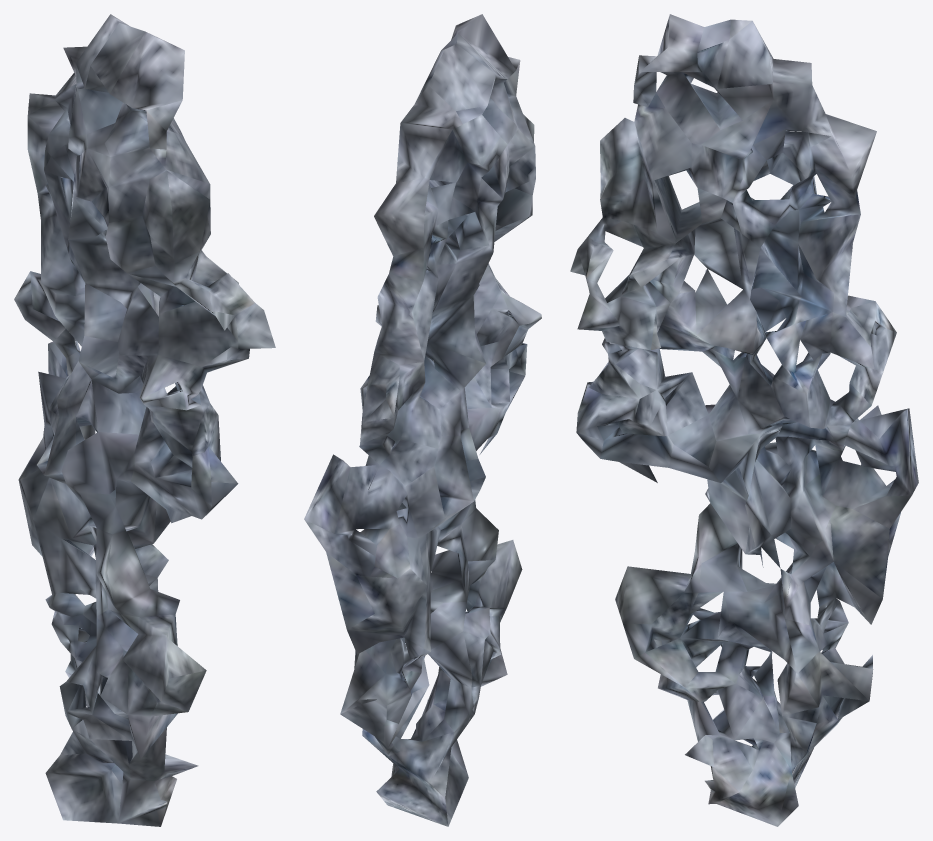
The model's file is rock_scholar.lod1.glb.
The picture shows the model from 3 angles, left to right: view 1: azimuth 30°, elevation 25°; view 2: azimuth 150°, elevation 25°; view 3: azimuth 270°, elevation 25°; orthographic projection. The views are drawn at different scales.
Parts seen in each view (by area): view 1: tripo_node_63439e56-1ea3-47c4-8e4d-1a85cea68036; view 2: tripo_node_63439e56-1ea3-47c4-8e4d-1a85cea68036; view 3: tripo_node_63439e56-1ea3-47c4-8e4d-1a85cea68036.
Boxes of the visible parts, x1,y1,x2,y2 form: tripo_node_63439e56-1ea3-47c4-8e4d-1a85cea68036: (14, 14, 275, 826); tripo_node_63439e56-1ea3-47c4-8e4d-1a85cea68036: (304, 14, 541, 826); tripo_node_63439e56-1ea3-47c4-8e4d-1a85cea68036: (570, 14, 918, 826).
Bounding box in the file's own units: 0.1588 × 0.9951 × 0.3975.
1 material, 1 textured.
